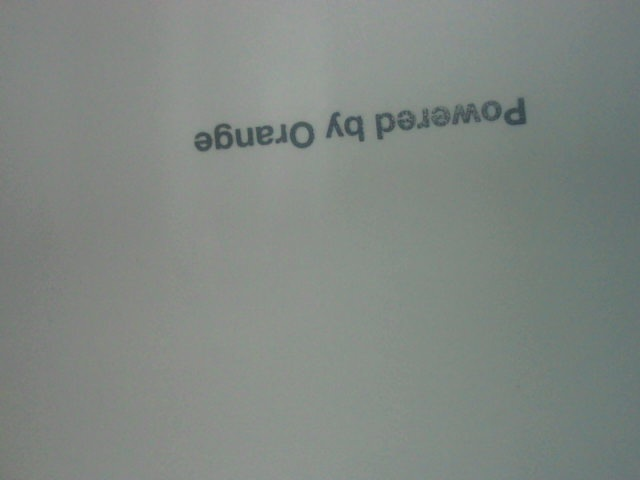AS_PowerByOrange: (190, 96, 536, 155)
